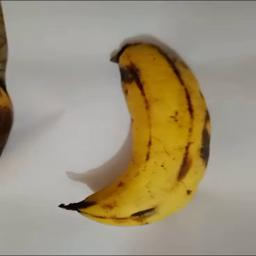Banana Semifresh: (54, 36, 212, 230)
